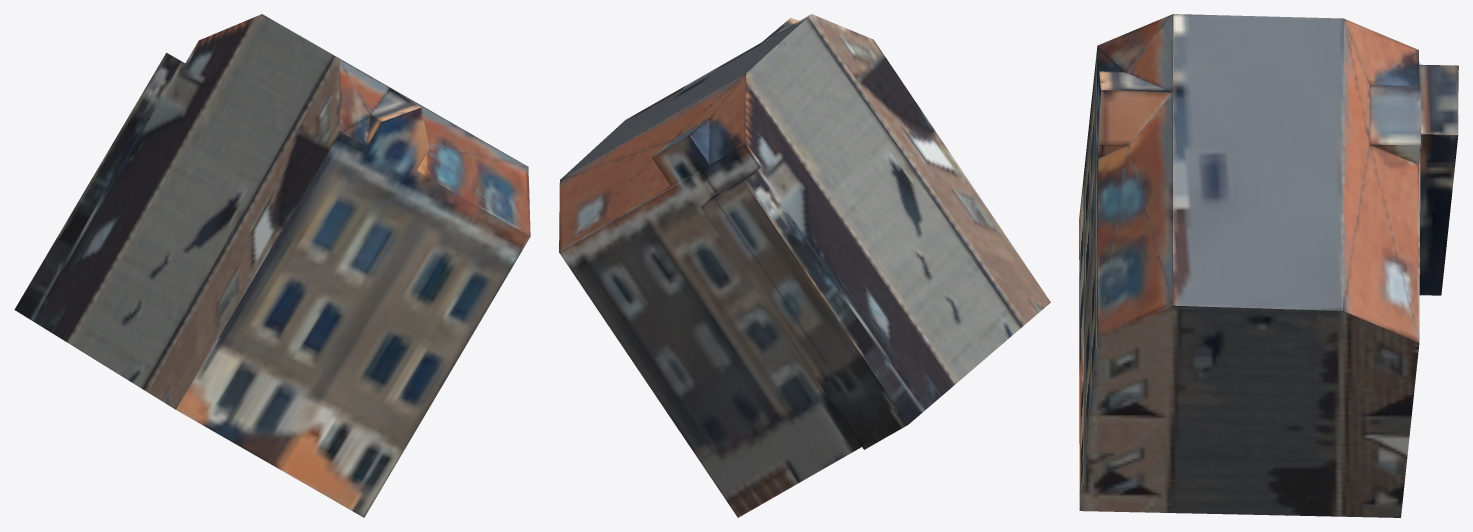
3 views of the same model, side by side, from view 1: azimuth 30°, elevation 25°; view 2: azimuth 150°, elevation 25°; view 3: azimuth 270°, elevation 25° (orthographic). The views are drawn at different scales.
Visible parts, largest first — view 1: BAG_0599100000688727 (×4); view 2: BAG_0599100000688727 (×5); view 3: BAG_0599100000688727 (×6).
Part boxes in pixels (bbox=[...]): BAG_0599100000688727 (×4): bbox=[14, 14, 530, 517]; BAG_0599100000688727 (×5): bbox=[559, 14, 1050, 517]; BAG_0599100000688727 (×6): bbox=[1079, 14, 1458, 517].
Bounding box in the file's own units: 15.53 × 16.14 × 10.76.
Materials: 1 (1 with a texture image).
